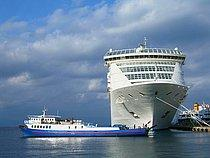Ship: (102, 37, 193, 135), (22, 106, 153, 141)
